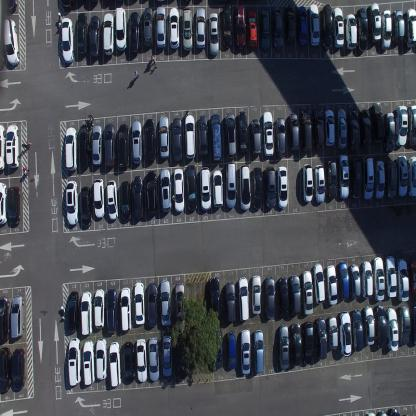car: (1, 18, 20, 66), (68, 336, 82, 387), (210, 112, 223, 164), (11, 346, 26, 391), (395, 257, 410, 301), (338, 310, 352, 357), (65, 180, 79, 226), (108, 341, 122, 387), (5, 123, 19, 169), (10, 293, 24, 339), (61, 16, 74, 65), (368, 0, 382, 45), (238, 163, 251, 210), (6, 186, 21, 226), (147, 336, 160, 382), (135, 337, 148, 383), (312, 262, 326, 304), (374, 304, 387, 349), (237, 276, 250, 321), (82, 340, 95, 385), (225, 161, 237, 209), (132, 174, 144, 222), (262, 110, 274, 158), (338, 153, 350, 201), (199, 167, 212, 211), (395, 103, 408, 147), (88, 15, 101, 59), (372, 256, 385, 300), (209, 276, 221, 323), (371, 101, 384, 144), (384, 254, 397, 297), (65, 126, 77, 172), (186, 164, 198, 210), (118, 122, 130, 168), (104, 122, 116, 168), (160, 280, 172, 326), (115, 6, 127, 52), (120, 286, 132, 332), (0, 347, 12, 393), (325, 264, 338, 306), (122, 340, 135, 382), (95, 338, 108, 380), (184, 114, 196, 159), (224, 113, 236, 158), (173, 167, 185, 212), (182, 6, 194, 51), (76, 11, 88, 56), (362, 155, 374, 200), (302, 320, 314, 365), (147, 282, 159, 327), (176, 336, 188, 380), (158, 115, 170, 159), (160, 168, 172, 212), (144, 118, 156, 162), (300, 108, 312, 152), (348, 108, 360, 152), (271, 6, 283, 50), (386, 307, 398, 351), (106, 288, 118, 332), (93, 287, 105, 331), (81, 289, 92, 336), (78, 124, 90, 167), (146, 171, 158, 214), (80, 185, 92, 228), (276, 165, 288, 208), (350, 157, 362, 200), (315, 317, 327, 360), (290, 323, 302, 366), (302, 270, 313, 316), (278, 324, 289, 370), (240, 329, 251, 375), (0, 296, 11, 342), (120, 179, 132, 221), (106, 179, 118, 221), (91, 124, 103, 166), (335, 108, 347, 150), (289, 274, 301, 316), (224, 282, 236, 324), (235, 4, 246, 49), (131, 119, 142, 164), (237, 110, 248, 155), (221, 3, 232, 48), (129, 10, 140, 55), (103, 12, 114, 57), (253, 329, 264, 374), (93, 177, 105, 218), (313, 164, 325, 205), (398, 304, 410, 345), (361, 259, 373, 300), (252, 166, 263, 210), (161, 334, 172, 378), (208, 12, 219, 56), (308, 3, 319, 47), (352, 308, 363, 352), (134, 282, 145, 326), (68, 290, 79, 334), (302, 163, 314, 203), (326, 159, 338, 199), (345, 12, 357, 52), (363, 306, 375, 346), (265, 165, 276, 208), (212, 327, 223, 370), (195, 7, 206, 50), (405, 6, 416, 49), (396, 154, 407, 197), (287, 113, 299, 152), (360, 109, 372, 148), (392, 8, 405, 44), (275, 116, 286, 158), (333, 6, 344, 48), (278, 276, 289, 318), (322, 3, 332, 49), (250, 118, 262, 156), (174, 282, 186, 320), (338, 261, 350, 299), (357, 7, 367, 52), (212, 169, 223, 209), (172, 118, 182, 162), (314, 107, 324, 151), (156, 5, 166, 49), (381, 9, 392, 49), (374, 159, 385, 199), (265, 275, 275, 319), (226, 330, 237, 370), (349, 262, 361, 298), (198, 115, 208, 158), (169, 7, 179, 50), (260, 9, 270, 52), (324, 109, 335, 148), (297, 4, 307, 46), (385, 112, 395, 153), (143, 6, 153, 47), (285, 3, 295, 44), (251, 274, 261, 314), (247, 9, 257, 48), (386, 160, 396, 198), (327, 316, 338, 350), (408, 104, 416, 146), (408, 155, 416, 197), (0, 180, 7, 224), (408, 260, 416, 295), (0, 124, 5, 171), (0, 22, 5, 68), (410, 305, 415, 346), (3, 0, 19, 11), (389, 408, 401, 416), (62, 0, 72, 8), (378, 410, 388, 415), (366, 410, 376, 415)
